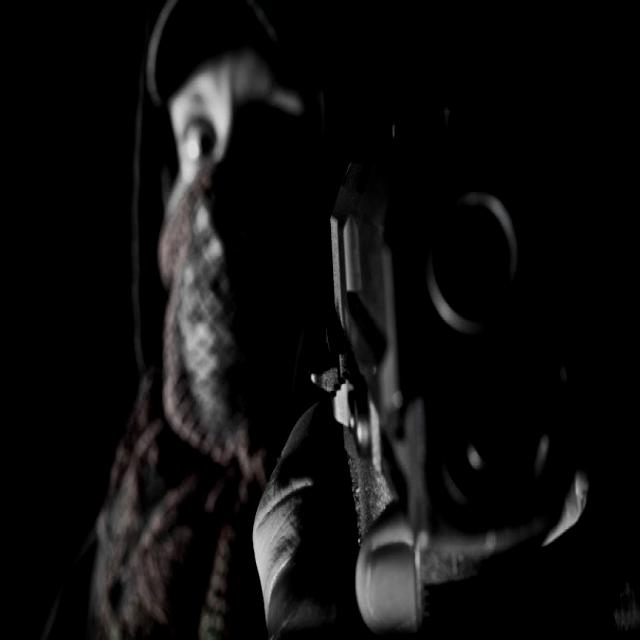pistol: (314, 64, 582, 639)
